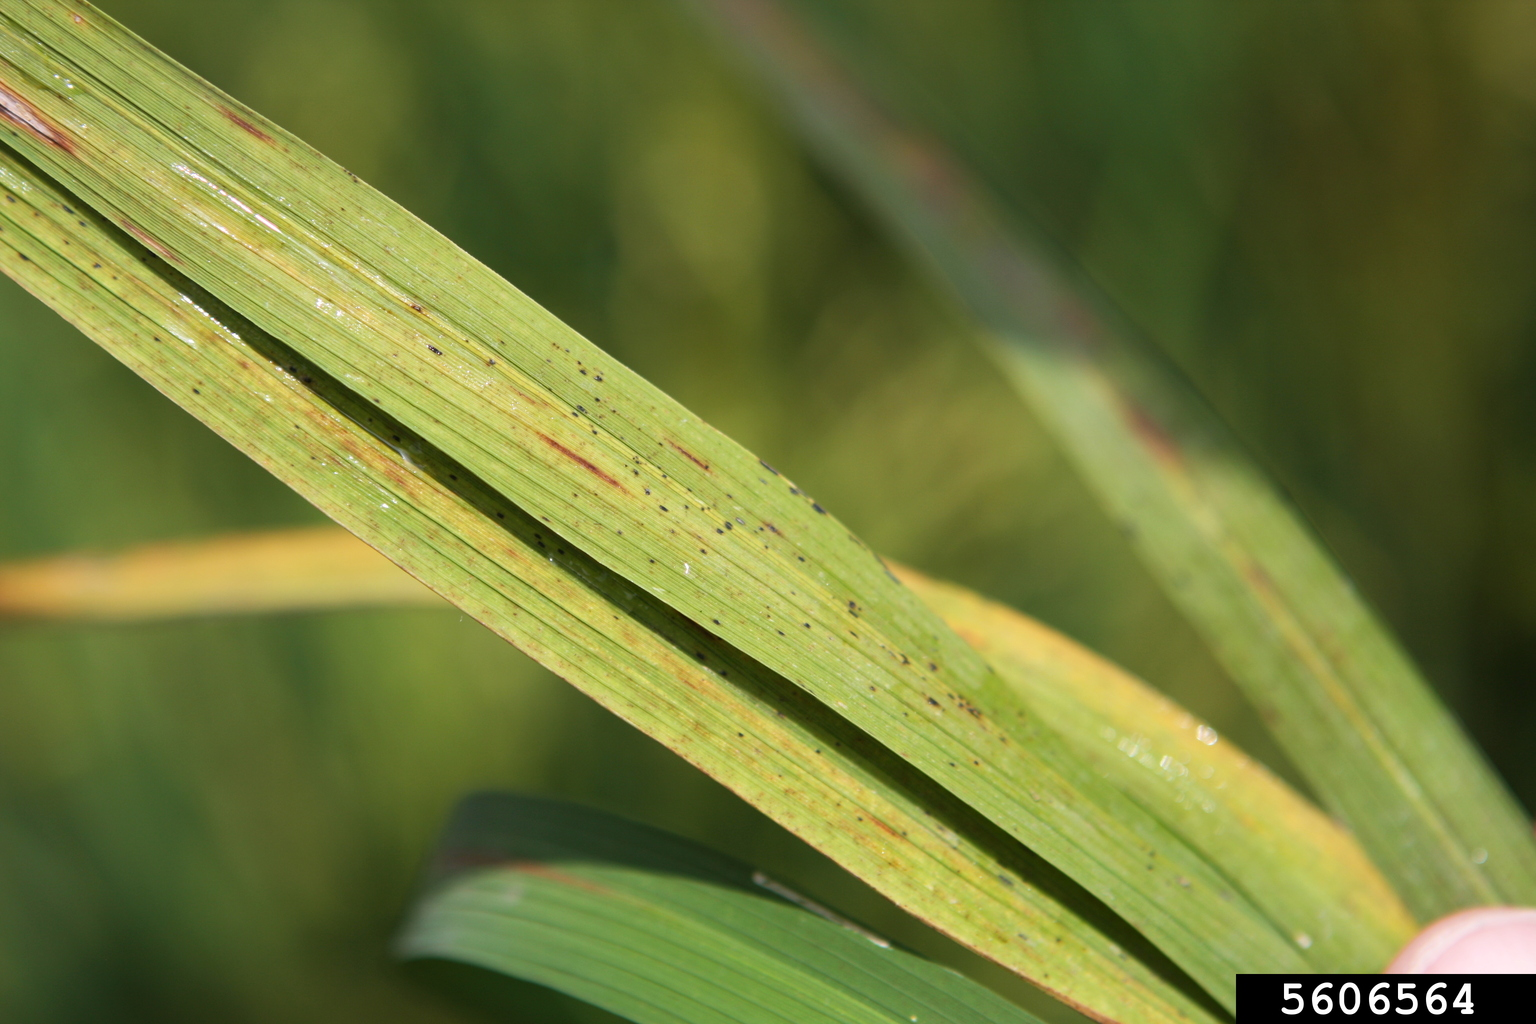Bercak Coklat: (505, 408, 633, 496), (1, 80, 78, 155), (206, 99, 272, 157)
